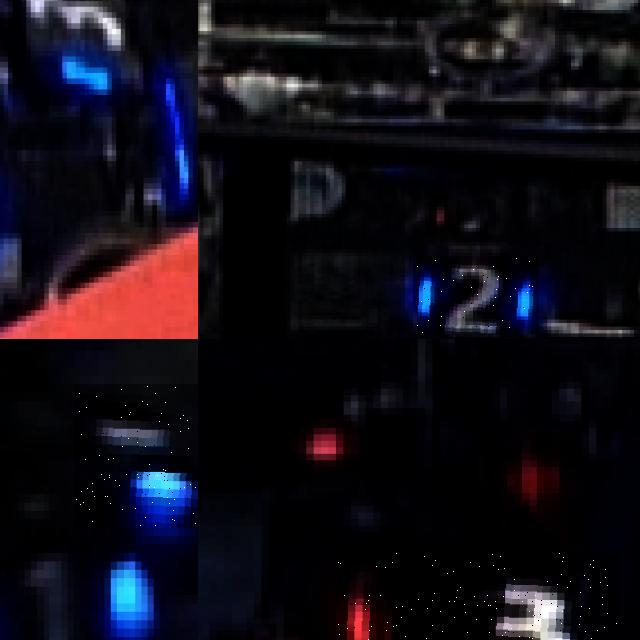B1: (73, 384, 198, 527), (0, 536, 153, 640)
B2: (417, 256, 539, 334)
R3: (336, 552, 619, 640)
